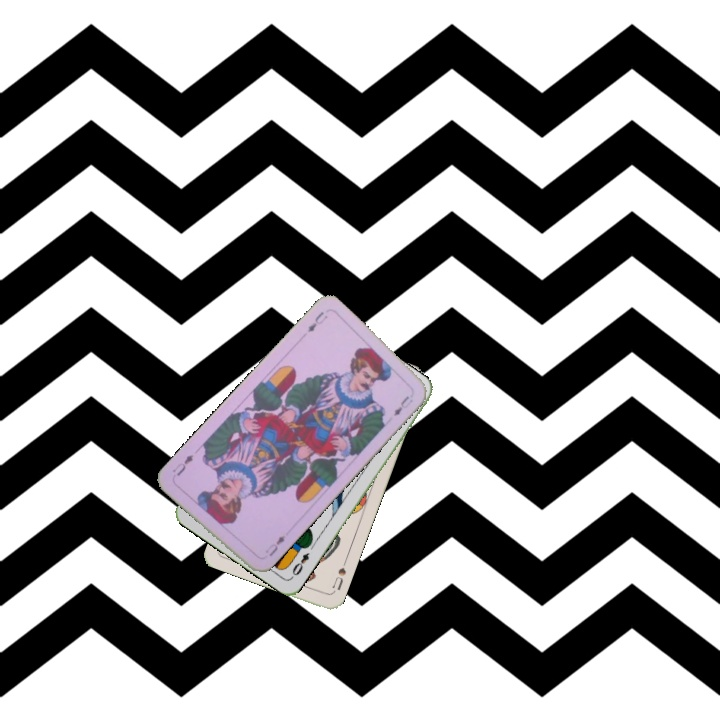EO: (287, 548, 312, 581)
EU: (261, 531, 288, 559), (303, 307, 330, 335)
SU: (328, 556, 349, 595)
